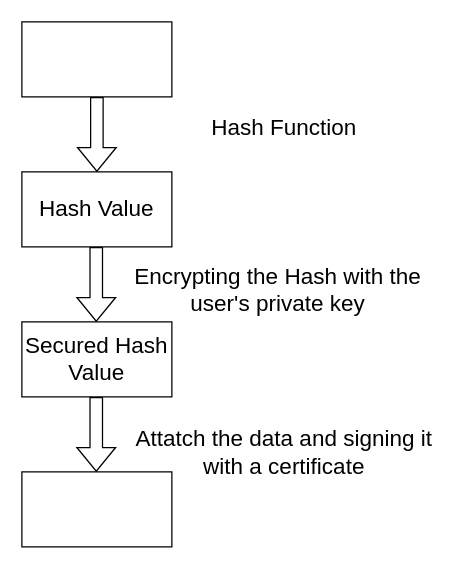
The diagram is 469 pixels wide and 569 high, and some of its shapes have lost their labels. The centre of each missing label's shape, as x and y in pixels:
"Data" goes at (96,59).
"Digitally Signed Data" goes at (96,509).
